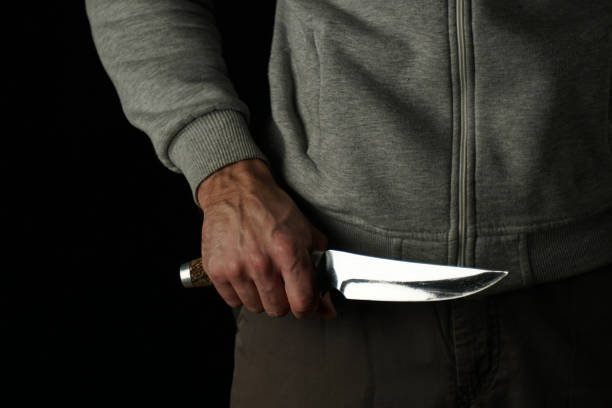knife: (178, 246, 510, 303)
